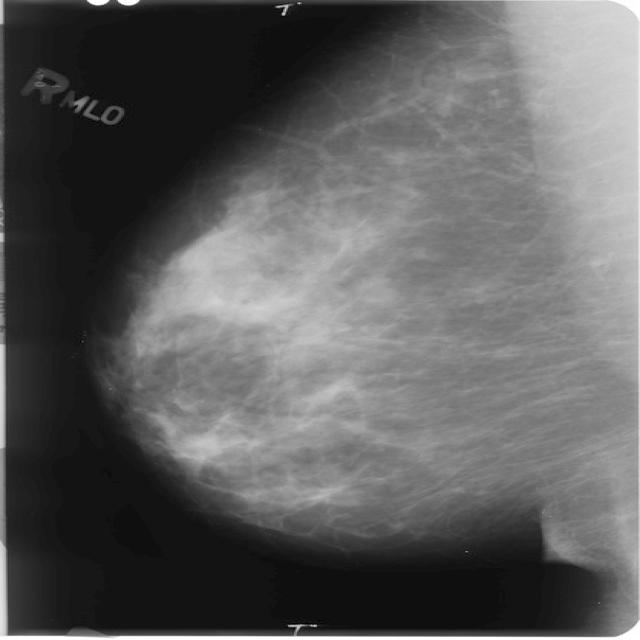tumour: (288, 323, 329, 346)
